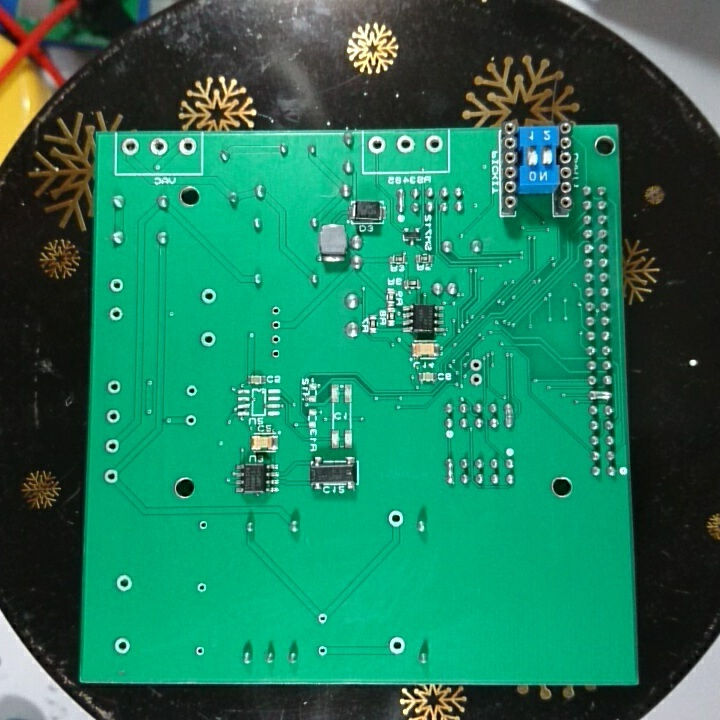F: (395, 132, 419, 157), (385, 633, 408, 658), (146, 135, 170, 158), (119, 135, 142, 158), (110, 635, 132, 658), (386, 507, 407, 531), (366, 133, 386, 158), (176, 135, 197, 157), (114, 572, 135, 594), (107, 303, 130, 323), (424, 132, 443, 156), (101, 465, 121, 486), (103, 435, 123, 455), (199, 286, 218, 306), (198, 329, 217, 349), (104, 377, 123, 397), (107, 276, 125, 295), (103, 408, 121, 426), (467, 371, 484, 389), (466, 357, 486, 372), (313, 643, 330, 660), (195, 578, 209, 598), (182, 413, 199, 429), (268, 346, 284, 363), (184, 383, 199, 400), (315, 610, 330, 626), (268, 331, 284, 346), (193, 643, 207, 660), (269, 318, 284, 333), (269, 303, 284, 317), (196, 518, 210, 532)
P: (586, 386, 614, 402), (502, 400, 515, 431), (444, 456, 456, 489), (394, 186, 407, 215)
